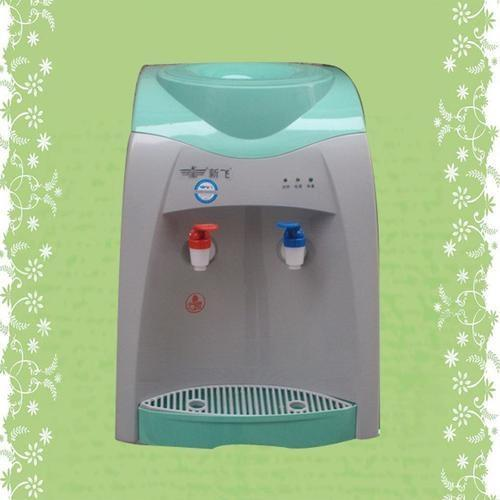Dispenser: (114, 61, 380, 448)
